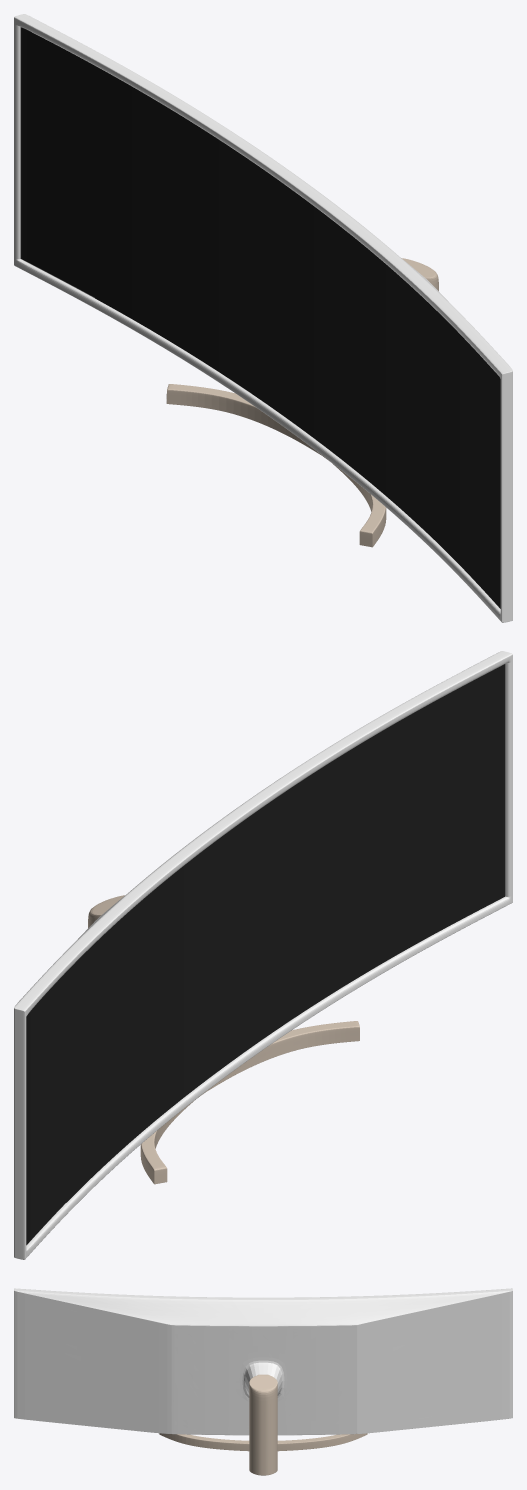
File: 32_9_monitor_curved_49in-transformed.glb
3 views of the same model, one above another, from view 1: azimuth 30°, elevation 25°; view 2: azimuth 150°, elevation 25°; view 3: azimuth 270°, elevation 25° (orthographic). The views are drawn at different scales.
Parts seen in each view (by area): view 1: Plane; view 2: Plane; view 3: Plane.
Part boxes in pixels (x1,y1,x2,y2): Plane: (14, 14, 512, 622); Plane: (14, 651, 512, 1259); Plane: (14, 1288, 512, 1475).
Bounding box in the file's own units: 9.94 × 14.97 × 47.2.
